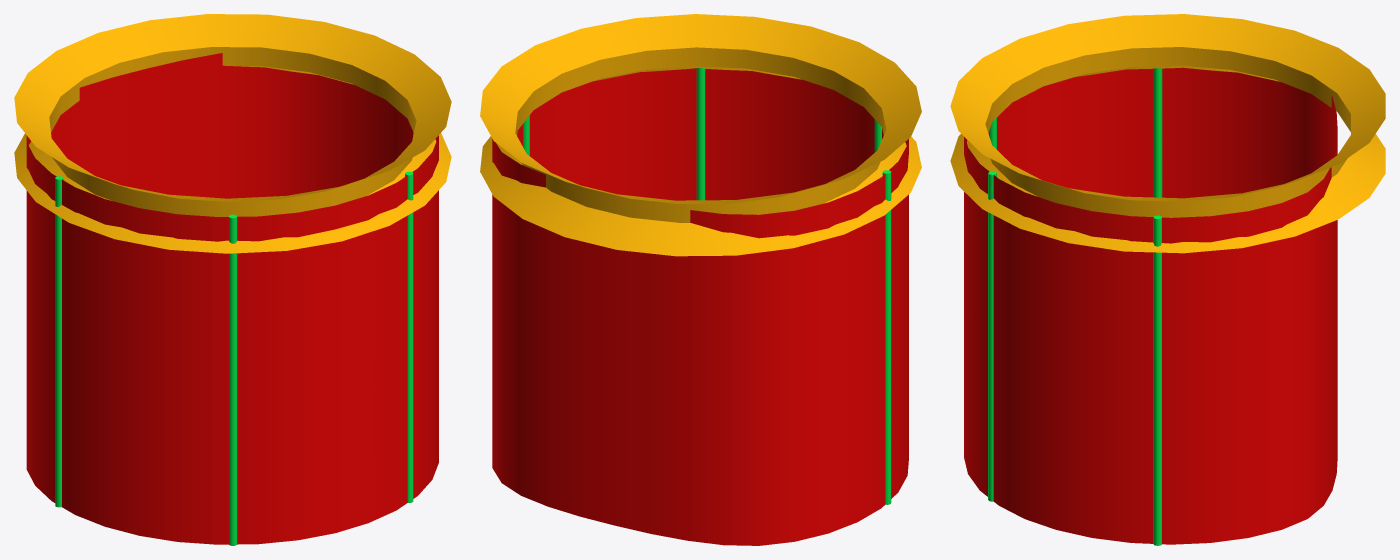
Rendered from TUBO.fbx.
The picture shows the model from 3 angles, left to right: view 1: azimuth 30°, elevation 25°; view 2: azimuth 150°, elevation 25°; view 3: azimuth 270°, elevation 25°; orthographic projection.
Parts seen in each view (by area): view 1: Tube001; view 2: Tube001; view 3: Tube001.
Boxes of the visible parts, x1=… form: Tube001: x1=14, y1=14, x2=451, y2=545; Tube001: x1=480, y1=14, x2=921, y2=545; Tube001: x1=950, y1=14, x2=1385, y2=545.
Size of the model in its own units: 506 by 449 by 504.
